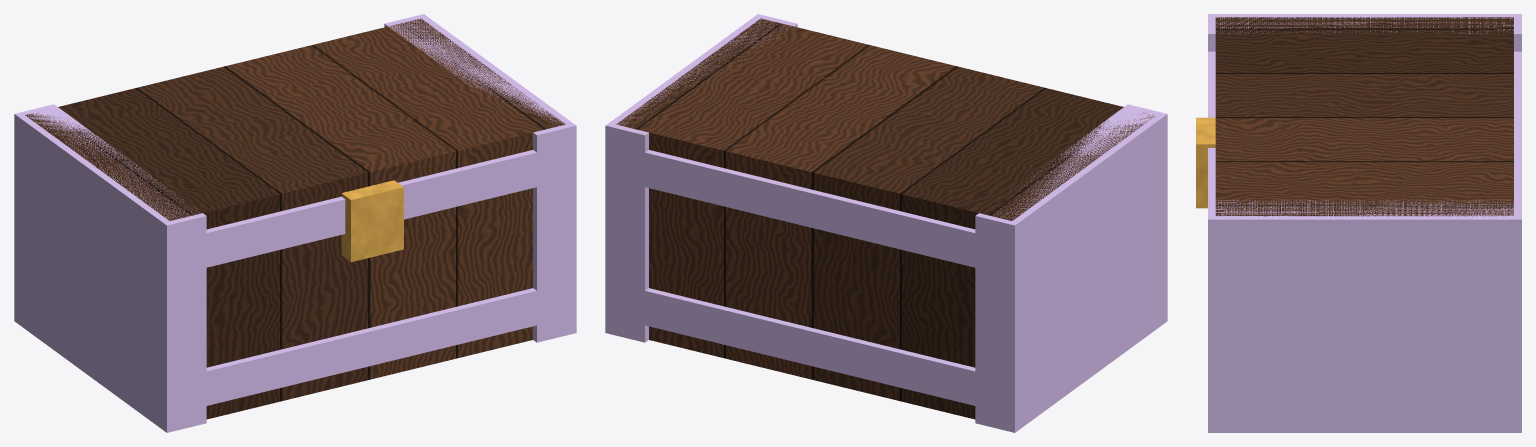
The model's file is dun_chest_lilac.glb.
3 views of the same model, side by side, from view 1: azimuth 30°, elevation 25°; view 2: azimuth 150°, elevation 25°; view 3: azimuth 270°, elevation 25° (orthographic). The views are drawn at different scales.
Visible parts, largest first — view 1: dun_chest_lilac_dwood_0, dun_chest_lilac_satin_lilac_0, dun_chest_lilac_gold_0; view 2: dun_chest_lilac_dwood_0, dun_chest_lilac_satin_lilac_0; view 3: dun_chest_lilac_satin_lilac_0, dun_chest_lilac_dwood_0, dun_chest_lilac_gold_0.
Boxes of the visible parts, box(x1,y1,x2,y2) form: dun_chest_lilac_dwood_0: box(25, 18, 565, 419); dun_chest_lilac_satin_lilac_0: box(14, 14, 576, 432); dun_chest_lilac_gold_0: box(341, 180, 403, 262); dun_chest_lilac_dwood_0: box(616, 18, 1154, 419); dun_chest_lilac_satin_lilac_0: box(605, 14, 1167, 432); dun_chest_lilac_satin_lilac_0: box(1208, 14, 1521, 432); dun_chest_lilac_dwood_0: box(1215, 17, 1513, 216); dun_chest_lilac_gold_0: box(1196, 117, 1215, 208).
Size of the model in its own units: 1.24 by 0.6 by 0.83.
3 materials, 2 textured.
